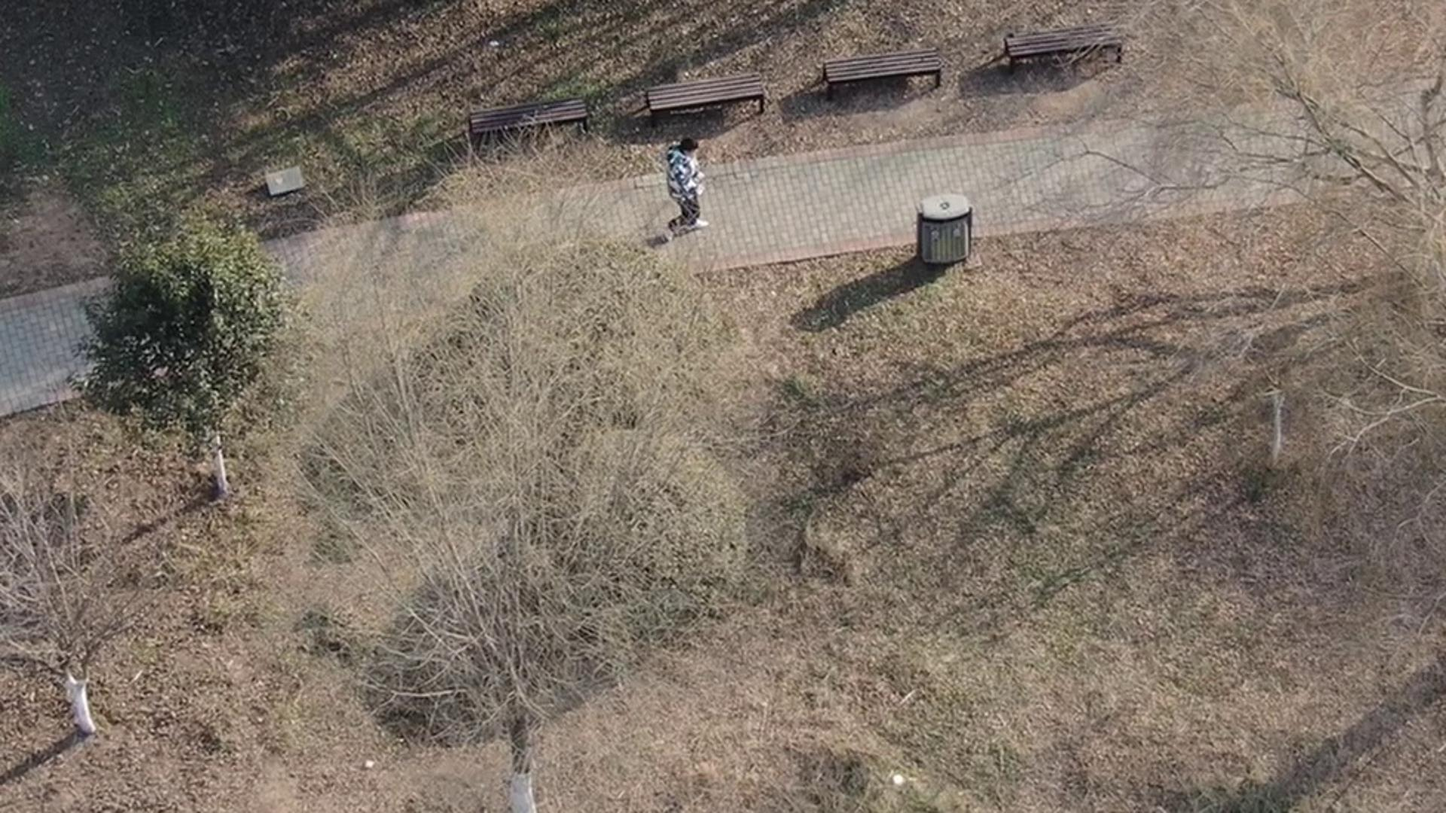human: (675, 145, 722, 257)
